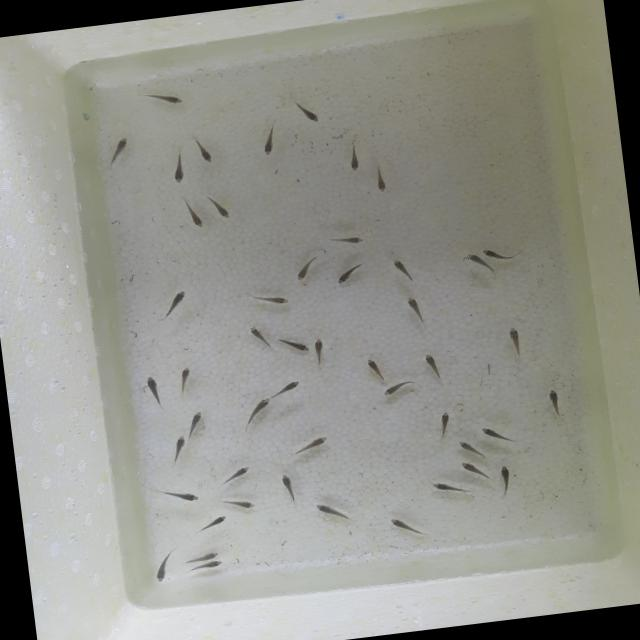fingerling: (142, 85, 188, 112), (153, 483, 200, 508), (476, 239, 518, 264), (190, 514, 231, 537), (170, 364, 198, 397), (325, 228, 367, 250), (177, 559, 230, 575), (158, 290, 188, 318), (168, 146, 188, 188), (142, 373, 162, 411), (312, 500, 346, 522), (334, 260, 364, 284), (386, 514, 418, 536), (280, 334, 312, 356), (298, 434, 331, 455), (218, 495, 258, 512), (106, 136, 132, 162), (247, 392, 274, 417), (264, 382, 297, 402), (459, 251, 489, 273), (292, 255, 318, 280), (182, 548, 220, 565), (308, 334, 329, 364), (390, 253, 414, 279), (150, 554, 170, 585), (428, 478, 466, 494), (186, 408, 210, 433), (476, 422, 504, 443), (496, 465, 514, 497), (299, 104, 324, 127), (371, 163, 388, 196), (458, 458, 486, 478), (379, 382, 414, 398), (223, 464, 254, 482), (362, 354, 384, 379), (458, 438, 483, 459), (258, 132, 278, 158), (246, 324, 270, 344), (170, 434, 190, 458), (195, 144, 215, 168), (252, 292, 286, 306), (424, 352, 442, 378), (213, 200, 234, 222), (280, 472, 296, 498), (545, 386, 563, 409), (404, 294, 422, 316), (508, 328, 522, 356), (436, 411, 453, 434), (346, 153, 362, 175), (188, 210, 205, 230)
